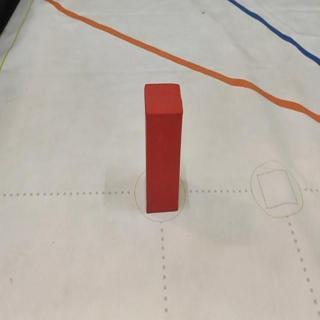redbox: (143, 82, 184, 213)
